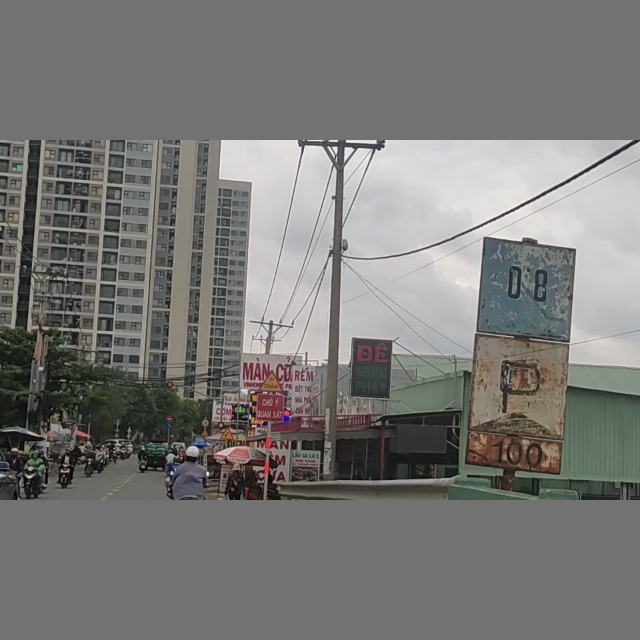W.245a: (259, 370, 284, 393)
